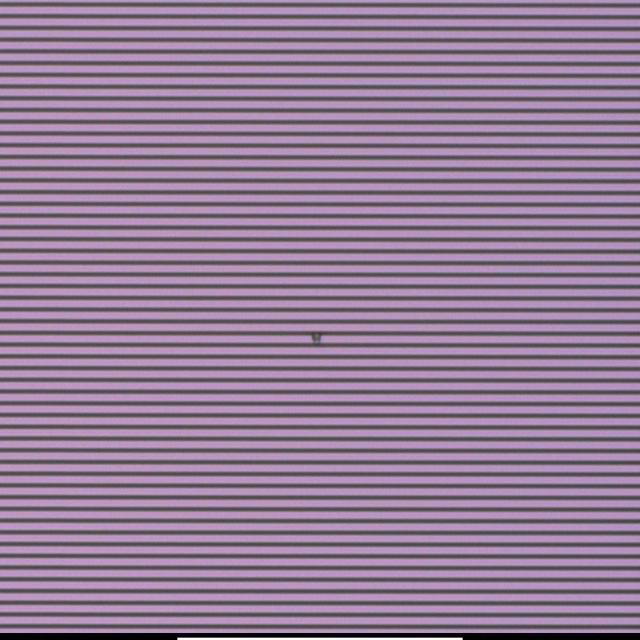03_intrusion: (308, 327, 328, 350)
